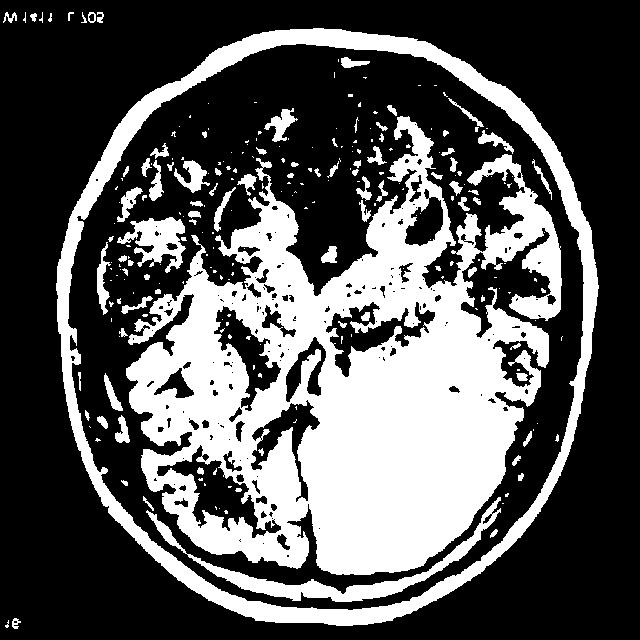Brain-Tumor: (306, 334, 521, 576)
